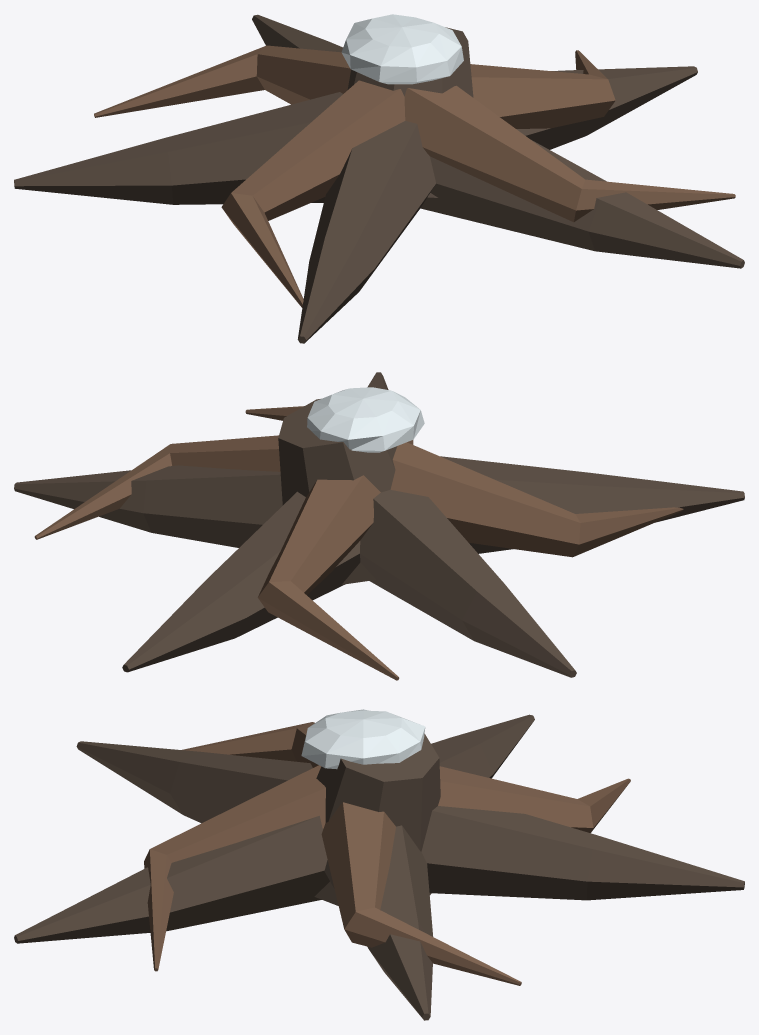
Rendered from LOG_04_ExposedRootCluster.glb.
3 renders of one model, top to bottom at view 1: azimuth 30°, elevation 25°; view 2: azimuth 150°, elevation 25°; view 3: azimuth 270°, elevation 25°, orthographic. The views are drawn at different scales.
Parts seen in each view (by area): view 1: LOG_04_ExposedRootCluster; view 2: LOG_04_ExposedRootCluster; view 3: LOG_04_ExposedRootCluster.
Part boxes in pixels (x1,y1,x2,y2): LOG_04_ExposedRootCluster: (14,14,744,343); LOG_04_ExposedRootCluster: (14,372,744,680); LOG_04_ExposedRootCluster: (14,709,744,1020).
Size of the model in its own units: 3.24 by 0.8362 by 3.34.
